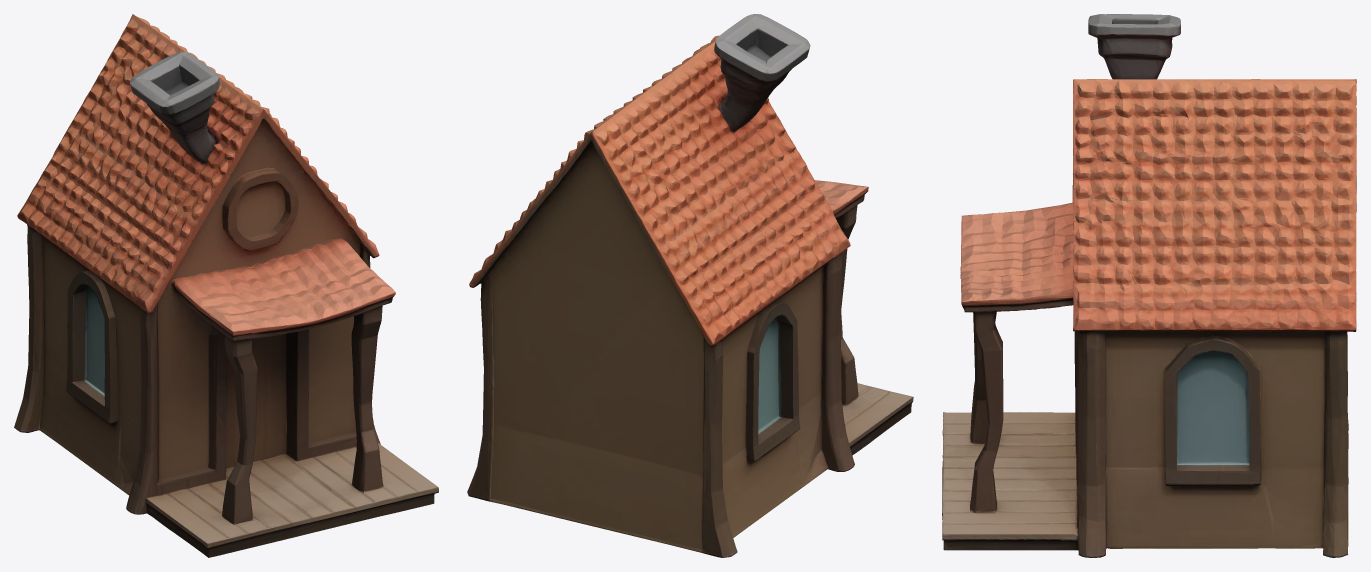
The model's file is nano_t03.glb.
The picture shows the model from 3 angles, left to right: view 1: azimuth 30°, elevation 25°; view 2: azimuth 150°, elevation 25°; view 3: azimuth 270°, elevation 25°; orthographic projection. The views are drawn at different scales.
Parts seen in each view (by area): view 1: geometry_0; view 2: geometry_0; view 3: geometry_0.
Boxes of the visible parts, x1,y1,x2,y2 form: geometry_0: (14,14,438,557); geometry_0: (467,14,913,557); geometry_0: (942,14,1356,557).
Size of the model in its own units: 0.7249 by 1.13 by 0.9477.
1 material, 1 textured.
